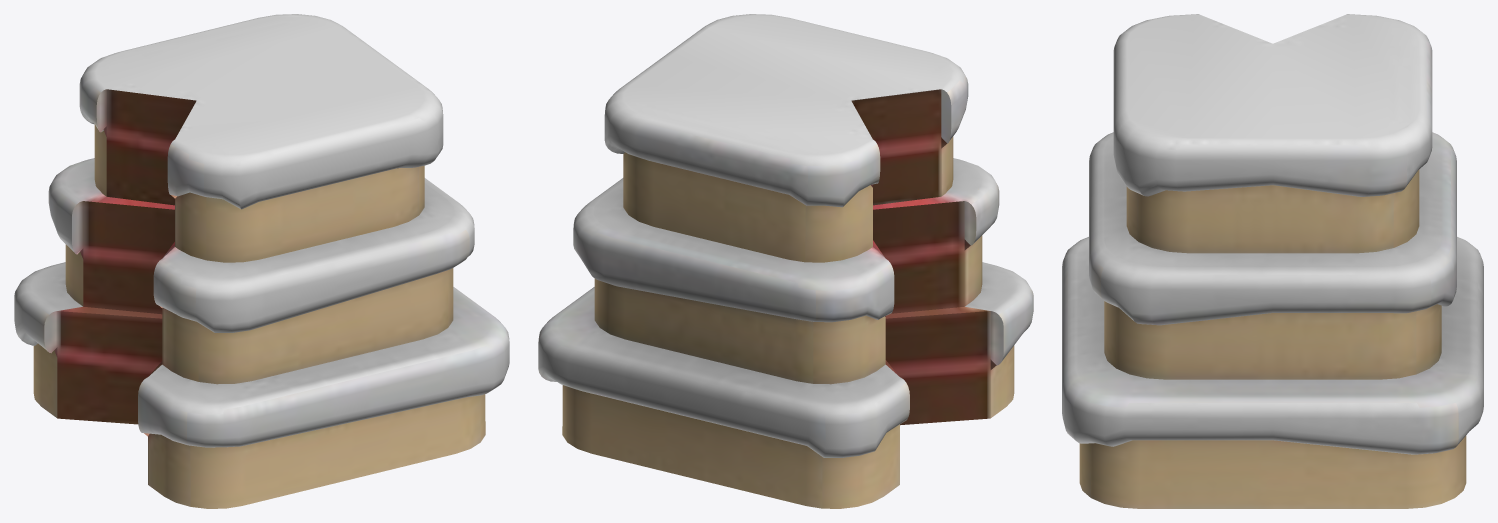
The model's file is cube_cake.glb.
The picture shows the model from 3 angles, left to right: view 1: azimuth 30°, elevation 25°; view 2: azimuth 150°, elevation 25°; view 3: azimuth 270°, elevation 25°; orthographic projection. The views are drawn at different scales.
Parts seen in each view (by area): view 1: cube_cake.002; view 2: cube_cake.002; view 3: cube_cake.002.
Boxes of the visible parts, left/top/right/bottom form: cube_cake.002: left=14, top=14, right=509, bottom=508; cube_cake.002: left=538, top=14, right=1033, bottom=508; cube_cake.002: left=1062, top=14, right=1483, bottom=508.
Bounding box in the file's own units: 2.18 × 2 × 2.18.
Materials: 1 (1 with a texture image).
